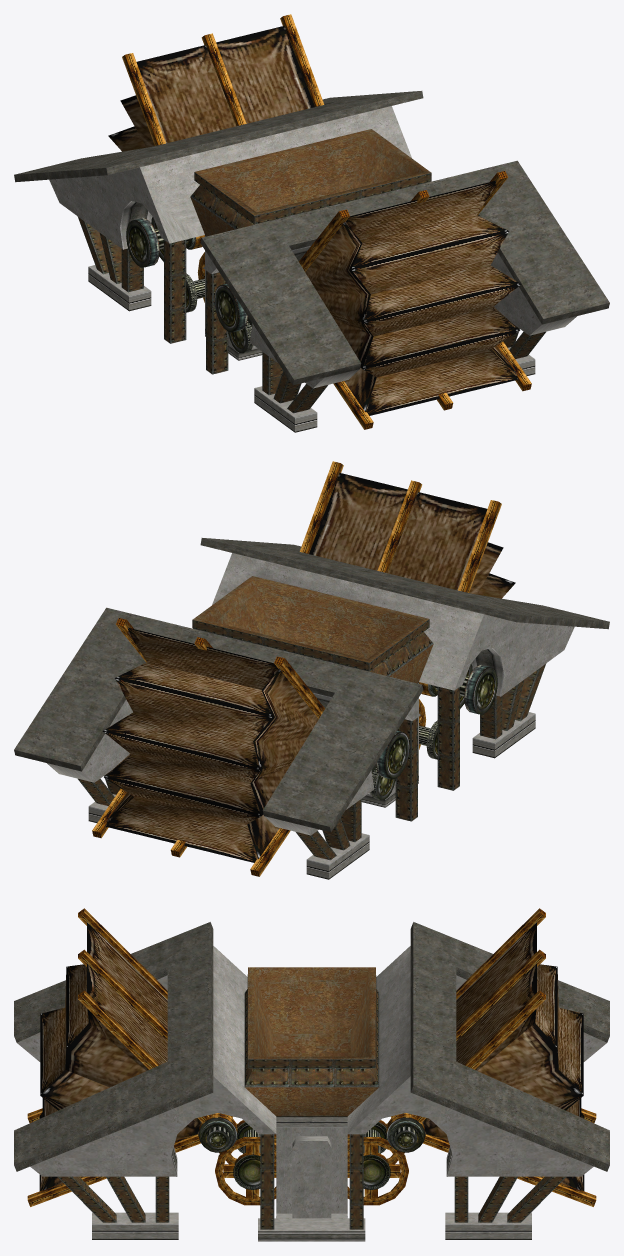
Rendered from FORGE_BILLOWS.fbx.
3 renders of one model, top to bottom at view 1: azimuth 30°, elevation 25°; view 2: azimuth 150°, elevation 25°; view 3: azimuth 270°, elevation 25°, orthographic. The views are drawn at different scales.
Parts seen in each view (by area): view 1: FORGE_BILLOWS; view 2: FORGE_BILLOWS; view 3: FORGE_BILLOWS.
Part boxes in pixels (x1,y1,x2,y2): FORGE_BILLOWS: [14, 14, 609, 432]; FORGE_BILLOWS: [14, 461, 609, 879]; FORGE_BILLOWS: [14, 908, 609, 1241].
Size of the model in its own units: 76877 by 49840 by 118101.
Materials: 13 (13 with a texture image).
